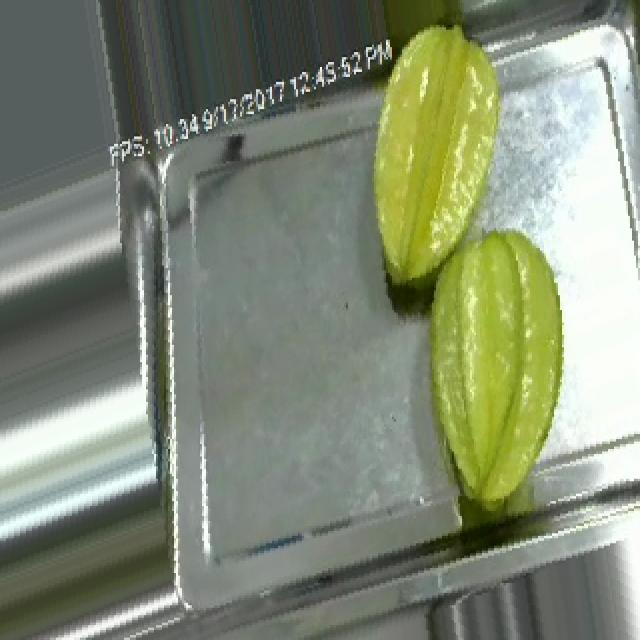fruit: (378, 203, 610, 526), (336, 5, 540, 313)
